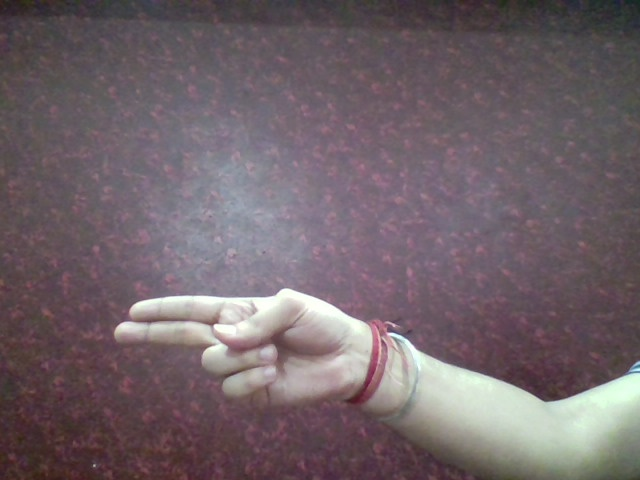h: (102, 279, 356, 424)
